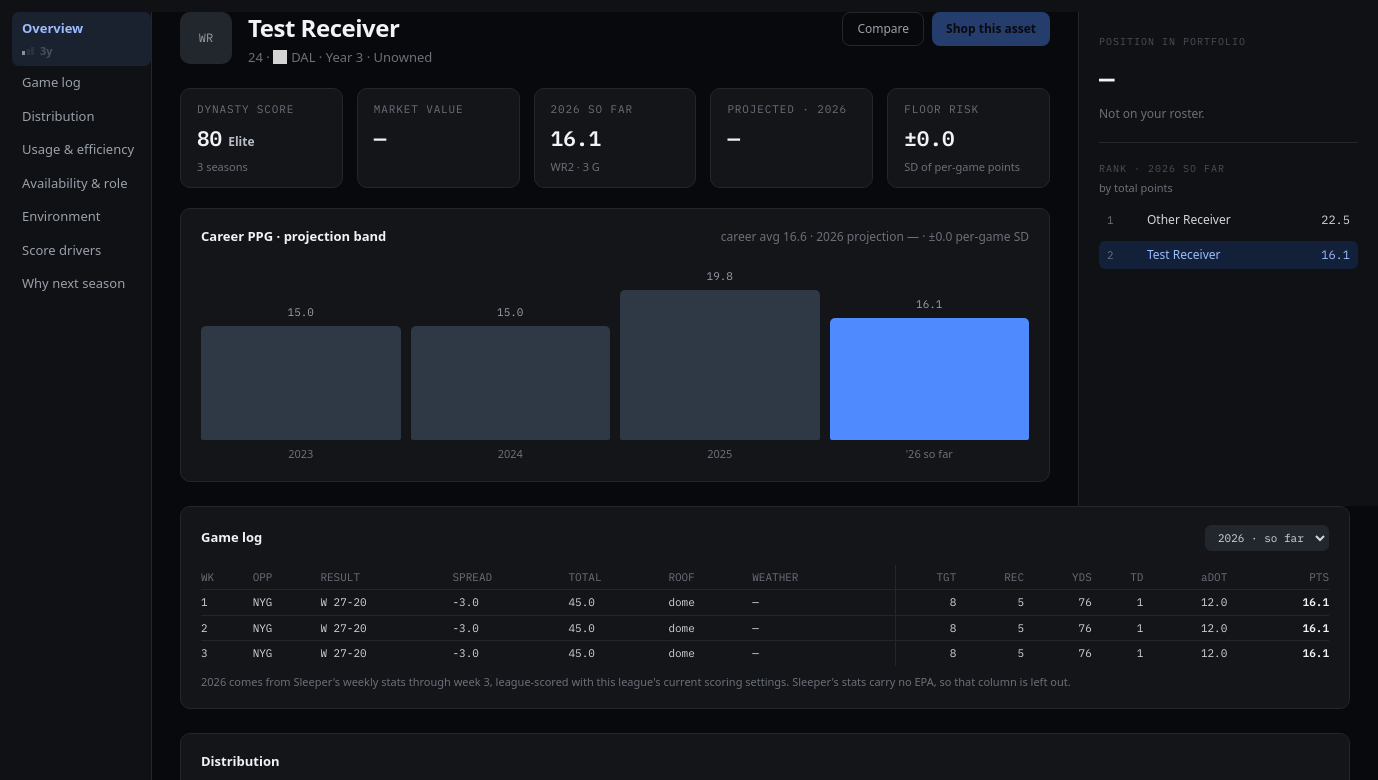
Test case: PlayerDetailModal — game-log season switcher (P5c) › S-8: switching to dataSeason restores EPA and the gamelogs values without a load request
Select "2025" in the dropdown with test id "game-log-season": [1267, 538] box [1205,524,1329,550]
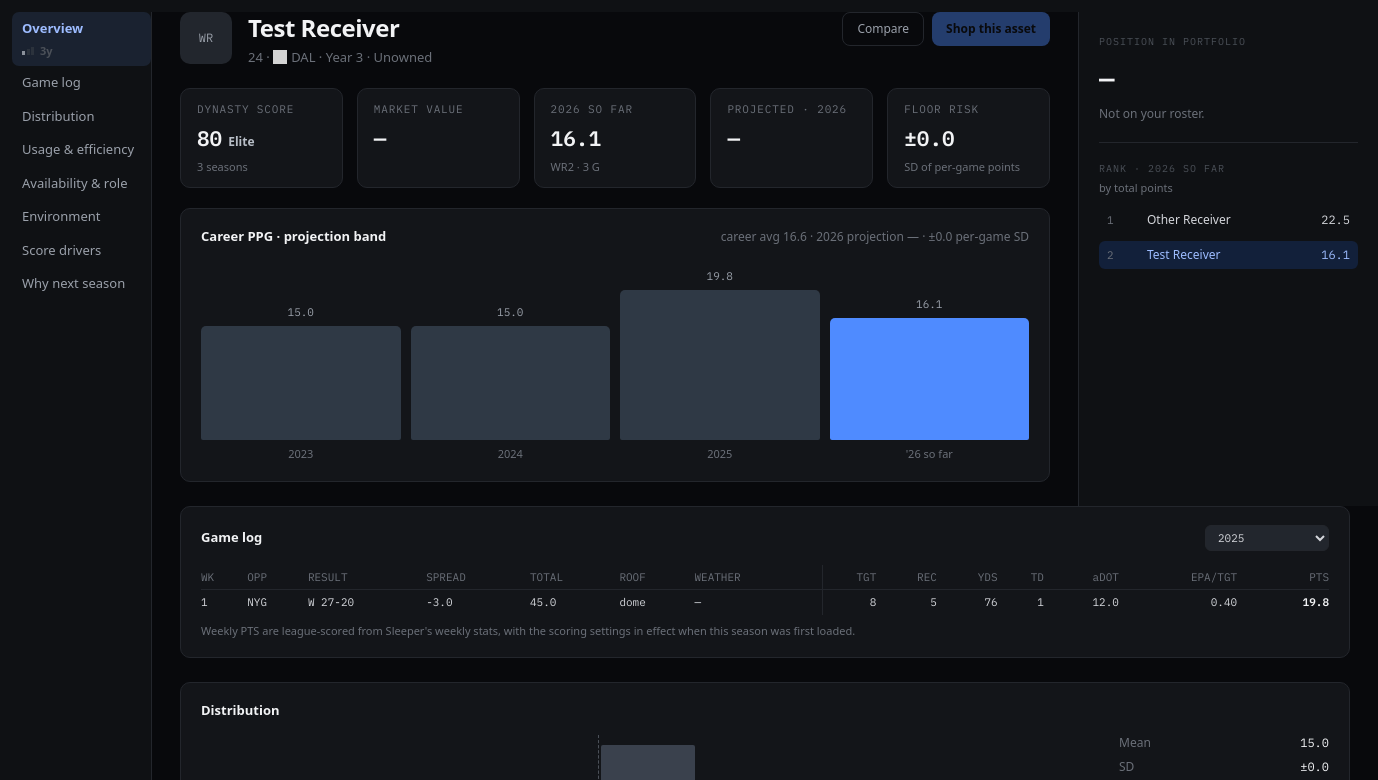
Check: the text "76" is shown, box [945,590,1006,614]
Check: the column heading "EPA/TGT" is shown, box [1127,564,1245,590]
